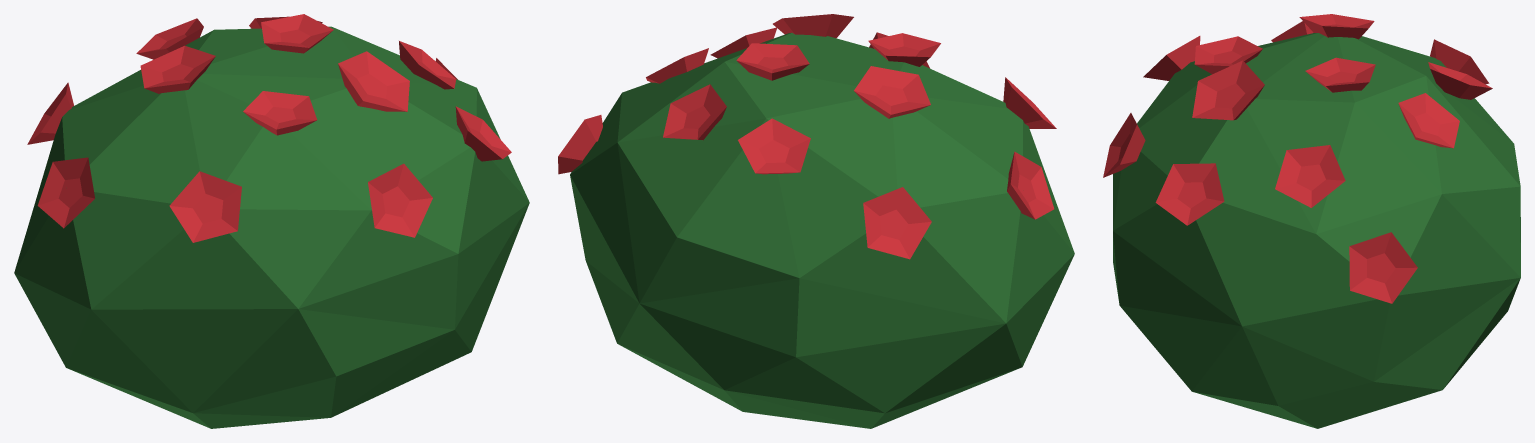
Rendered from shrub-flowers.fbx.
The picture shows the model from 3 angles, left to right: view 1: azimuth 30°, elevation 25°; view 2: azimuth 150°, elevation 25°; view 3: azimuth 270°, elevation 25°; orthographic projection. The views are drawn at different scales.
Visible parts, largest first — view 1: shrub_flowers; view 2: shrub_flowers; view 3: shrub_flowers.
Part boxes in pixels (x1,y1,x2,y2): shrub_flowers: [14, 14, 529, 428]; shrub_flowers: [558, 14, 1074, 428]; shrub_flowers: [1103, 14, 1520, 428].
Bounding box in the file's own units: 126 × 93.12 × 105.
